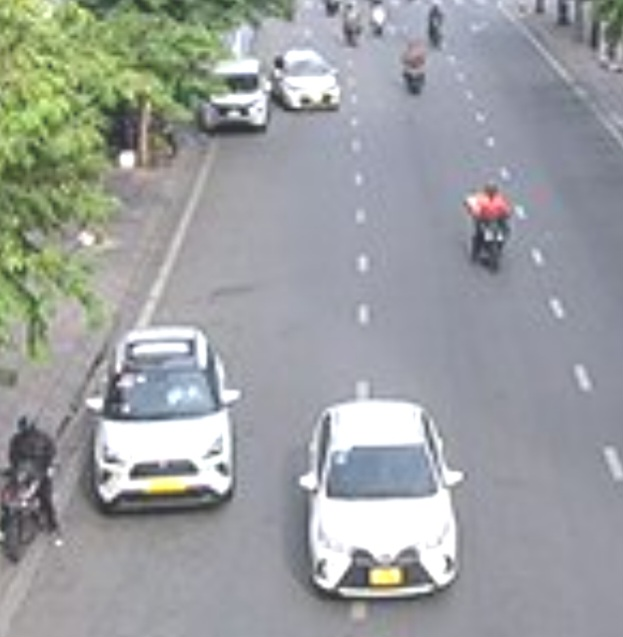car: (286, 388, 470, 595), (84, 331, 238, 508), (203, 54, 274, 142), (278, 49, 347, 120)
